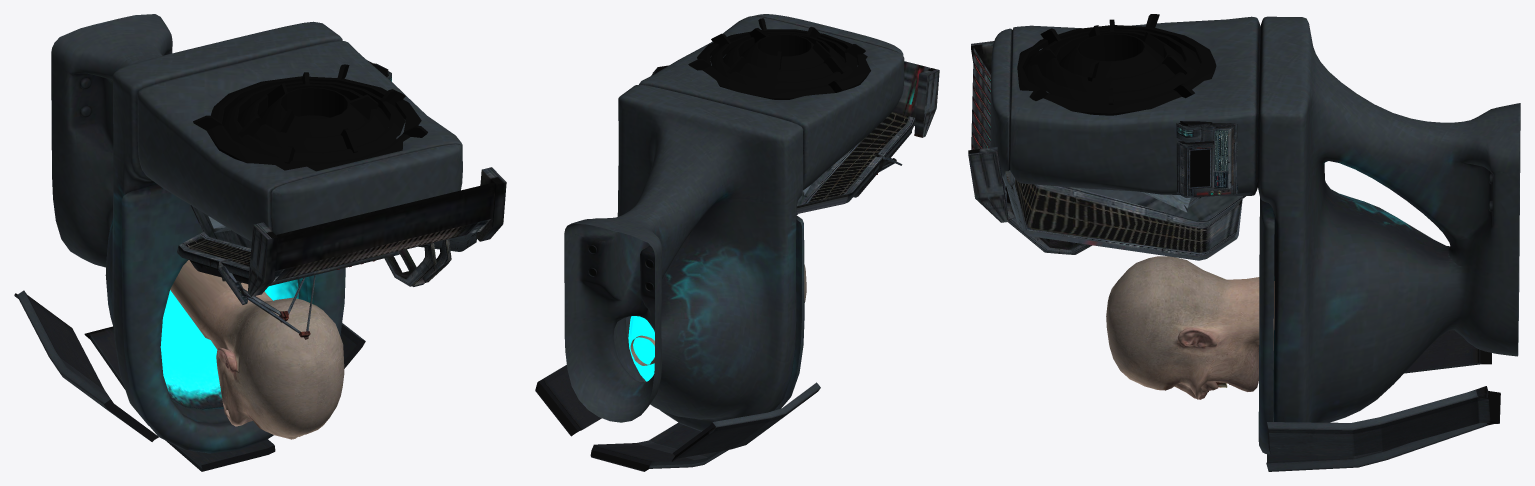
The picture shows the model from 3 angles, left to right: view 1: azimuth 30°, elevation 25°; view 2: azimuth 150°, elevation 25°; view 3: azimuth 270°, elevation 25°; orthographic projection. The views are drawn at different scales.
Parts seen in each view (by area): view 1: GlitchyTOilet_toilet_0, GlitchyTOilet_combine_interface001_0, GlitchyTOilet_eric_facemap_0, GlitchyTOilet_combine_interface_disp_0, GlitchyTOilet_combine_barricade_tall03b_0; view 2: GlitchyTOilet_toilet_0, GlitchyTOilet_combine_interface_disp_0, GlitchyTOilet_combine_barricade_tall03b_0, GlitchyTOilet_combine_interface001_0; view 3: GlitchyTOilet_toilet_0, GlitchyTOilet_combine_interface001_0, GlitchyTOilet_eric_facemap_0, GlitchyTOilet_combine_interface_disp_0, GlitchyTOilet_combine_barricade_tall03b_0.
Boxes of the visible parts, x1=… form: GlitchyTOilet_toilet_0: x1=51, y1=14, x2=462, y2=453; GlitchyTOilet_combine_interface001_0: x1=177, y1=60, x2=506, y2=339; GlitchyTOilet_eric_facemap_0: x1=170, y1=260, x2=344, y2=439; GlitchyTOilet_combine_interface_disp_0: x1=193, y1=64, x2=427, y2=171; GlitchyTOilet_combine_barricade_tall03b_0: x1=14, y1=290, x2=365, y2=471; GlitchyTOilet_toilet_0: x1=564, y1=14, x2=904, y2=431; GlitchyTOilet_combine_interface_disp_0: x1=688, y1=18, x2=870, y2=99; GlitchyTOilet_combine_barricade_tall03b_0: x1=535, y1=365, x2=820, y2=471; GlitchyTOilet_combine_interface001_0: x1=651, y1=61, x2=939, y2=214; GlitchyTOilet_toilet_0: x1=990, y1=16, x2=1520, y2=454; GlitchyTOilet_combine_interface001_0: x1=968, y1=41, x2=1245, y2=260; GlitchyTOilet_eric_facemap_0: x1=1106, y1=256, x2=1274, y2=399; GlitchyTOilet_combine_interface_disp_0: x1=1017, y1=14, x2=1216, y2=187; GlitchyTOilet_combine_barricade_tall03b_0: x1=1266, y1=330, x2=1500, y2=471.
Bounding box in the file's own units: 0.5333 × 0.8341 × 1.
